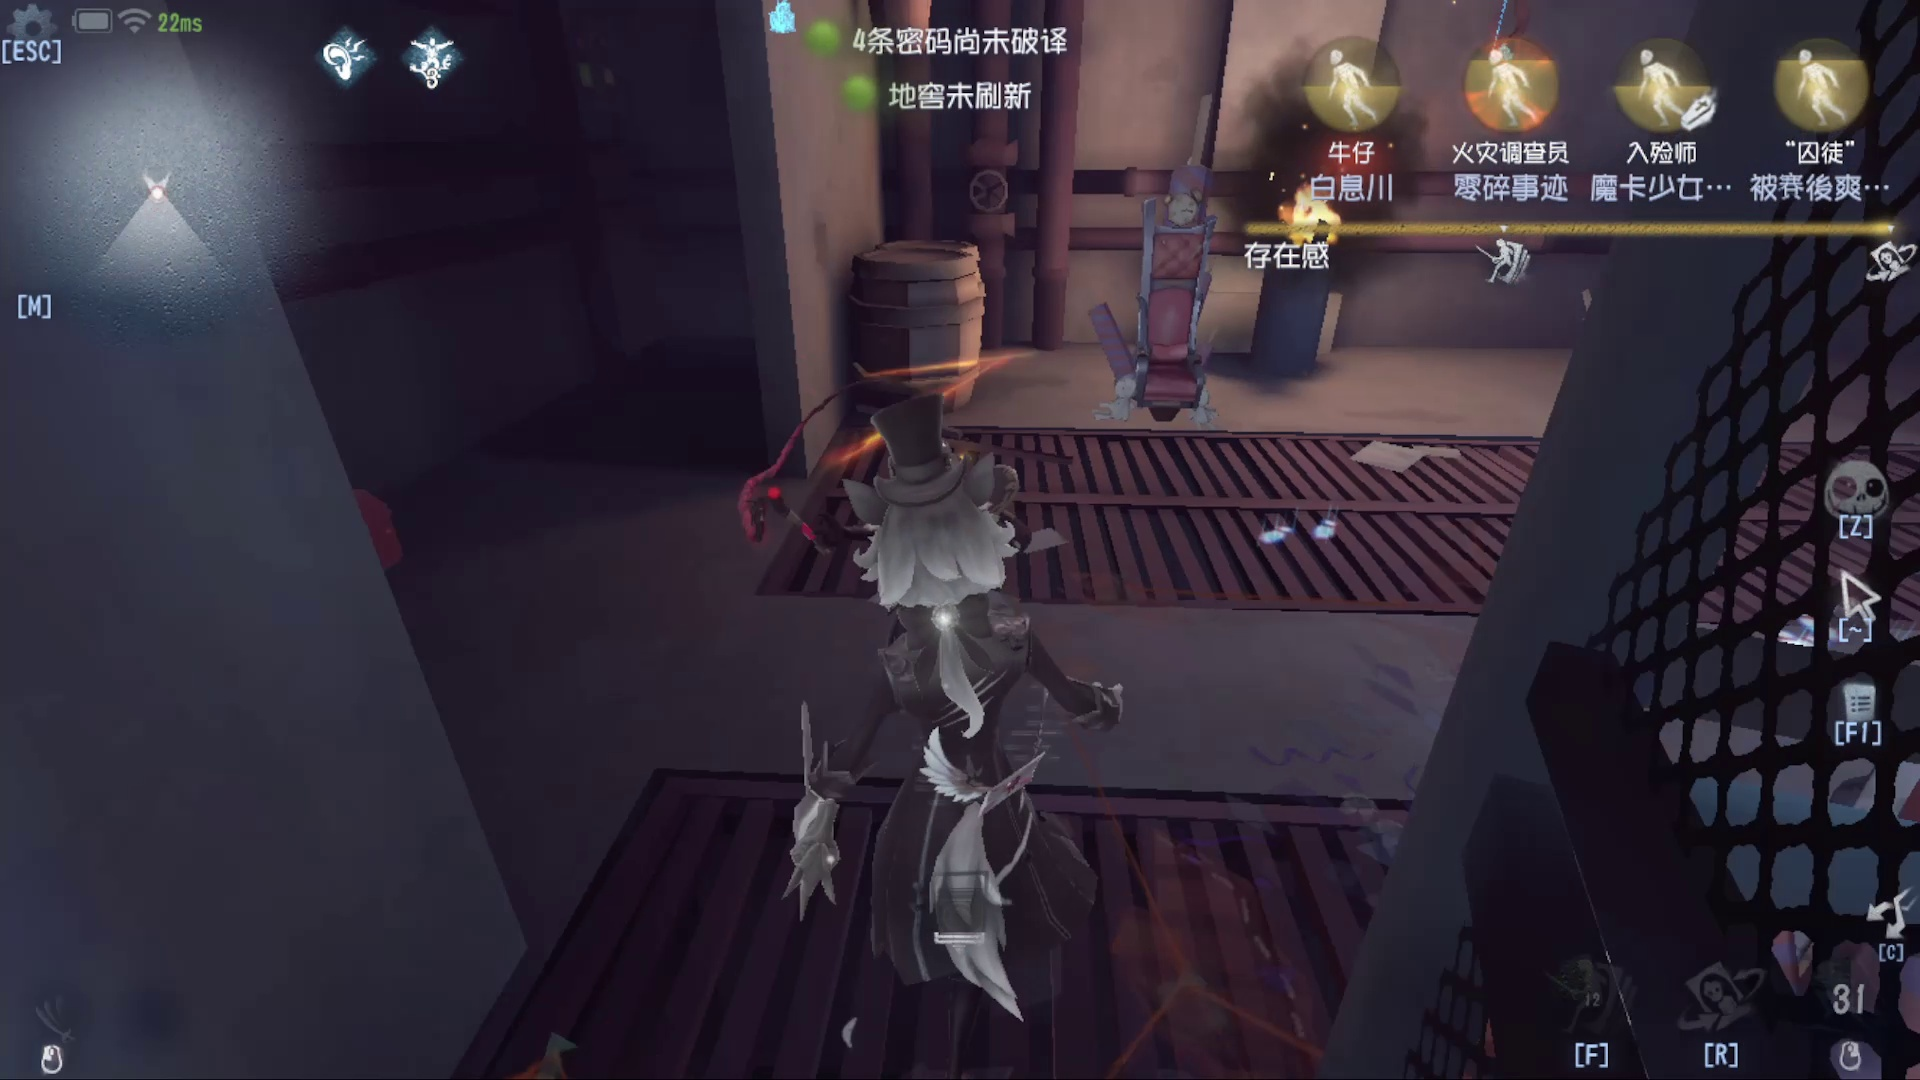狂欢之椅: (1125, 102, 1222, 415)
